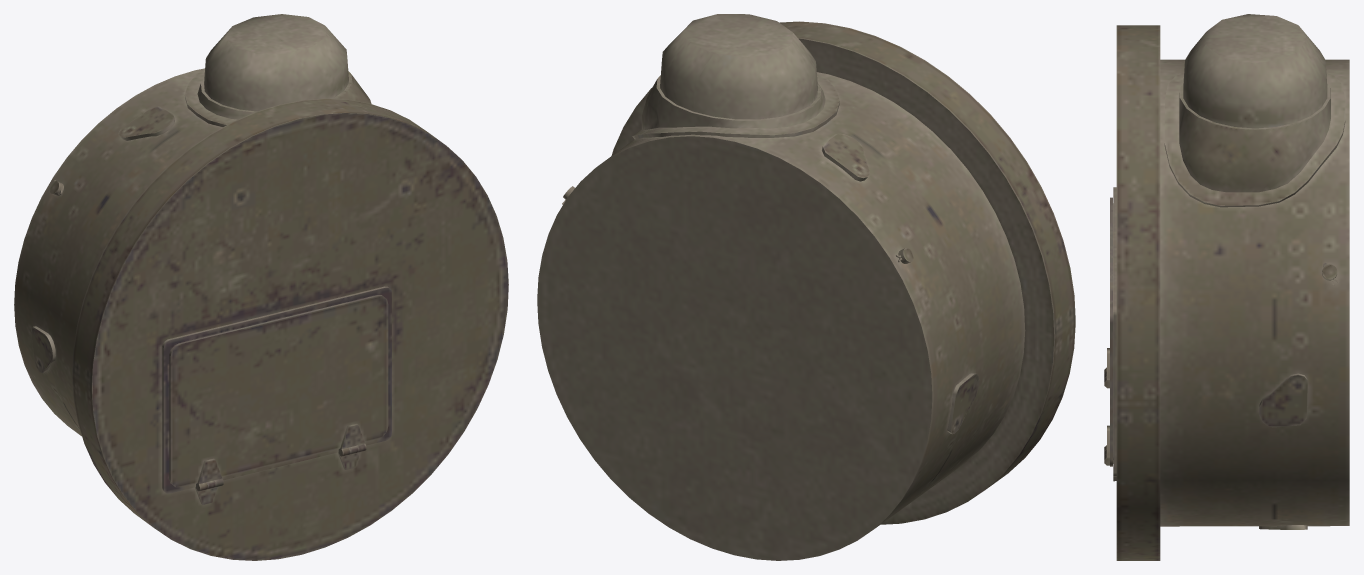
File: Turret_02.glb
3 renders of one model, left to right at view 1: azimuth 30°, elevation 25°; view 2: azimuth 150°, elevation 25°; view 3: azimuth 270°, elevation 25°, orthographic. The views are drawn at different scales.
Visible parts, largest first — view 1: set_0_group_0; view 2: set_0_group_0; view 3: set_0_group_0.
Part boxes in pixels (x1,y1,x2,y2): set_0_group_0: (14, 14, 508, 560); set_0_group_0: (537, 14, 1075, 560); set_0_group_0: (1104, 14, 1349, 560).
Size of the model in its own units: 1.17 by 1.25 by 0.5369.
Materials: 1 (1 with a texture image).
